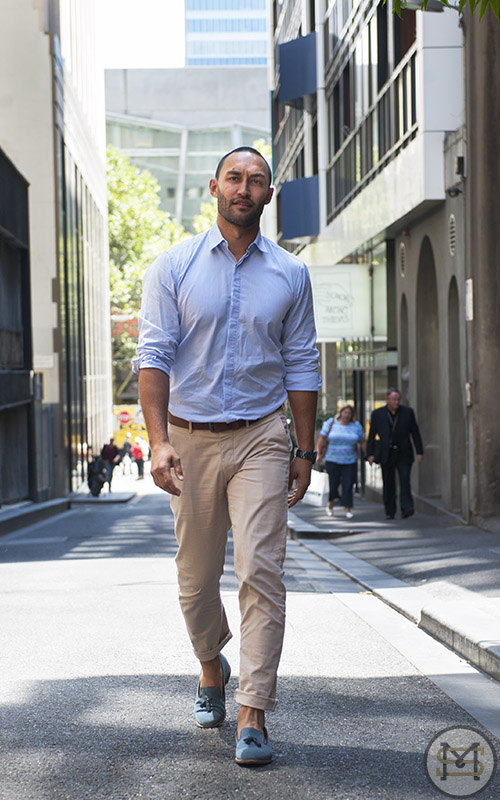Person: (138, 147, 321, 765), (370, 387, 425, 520), (320, 405, 366, 516)
